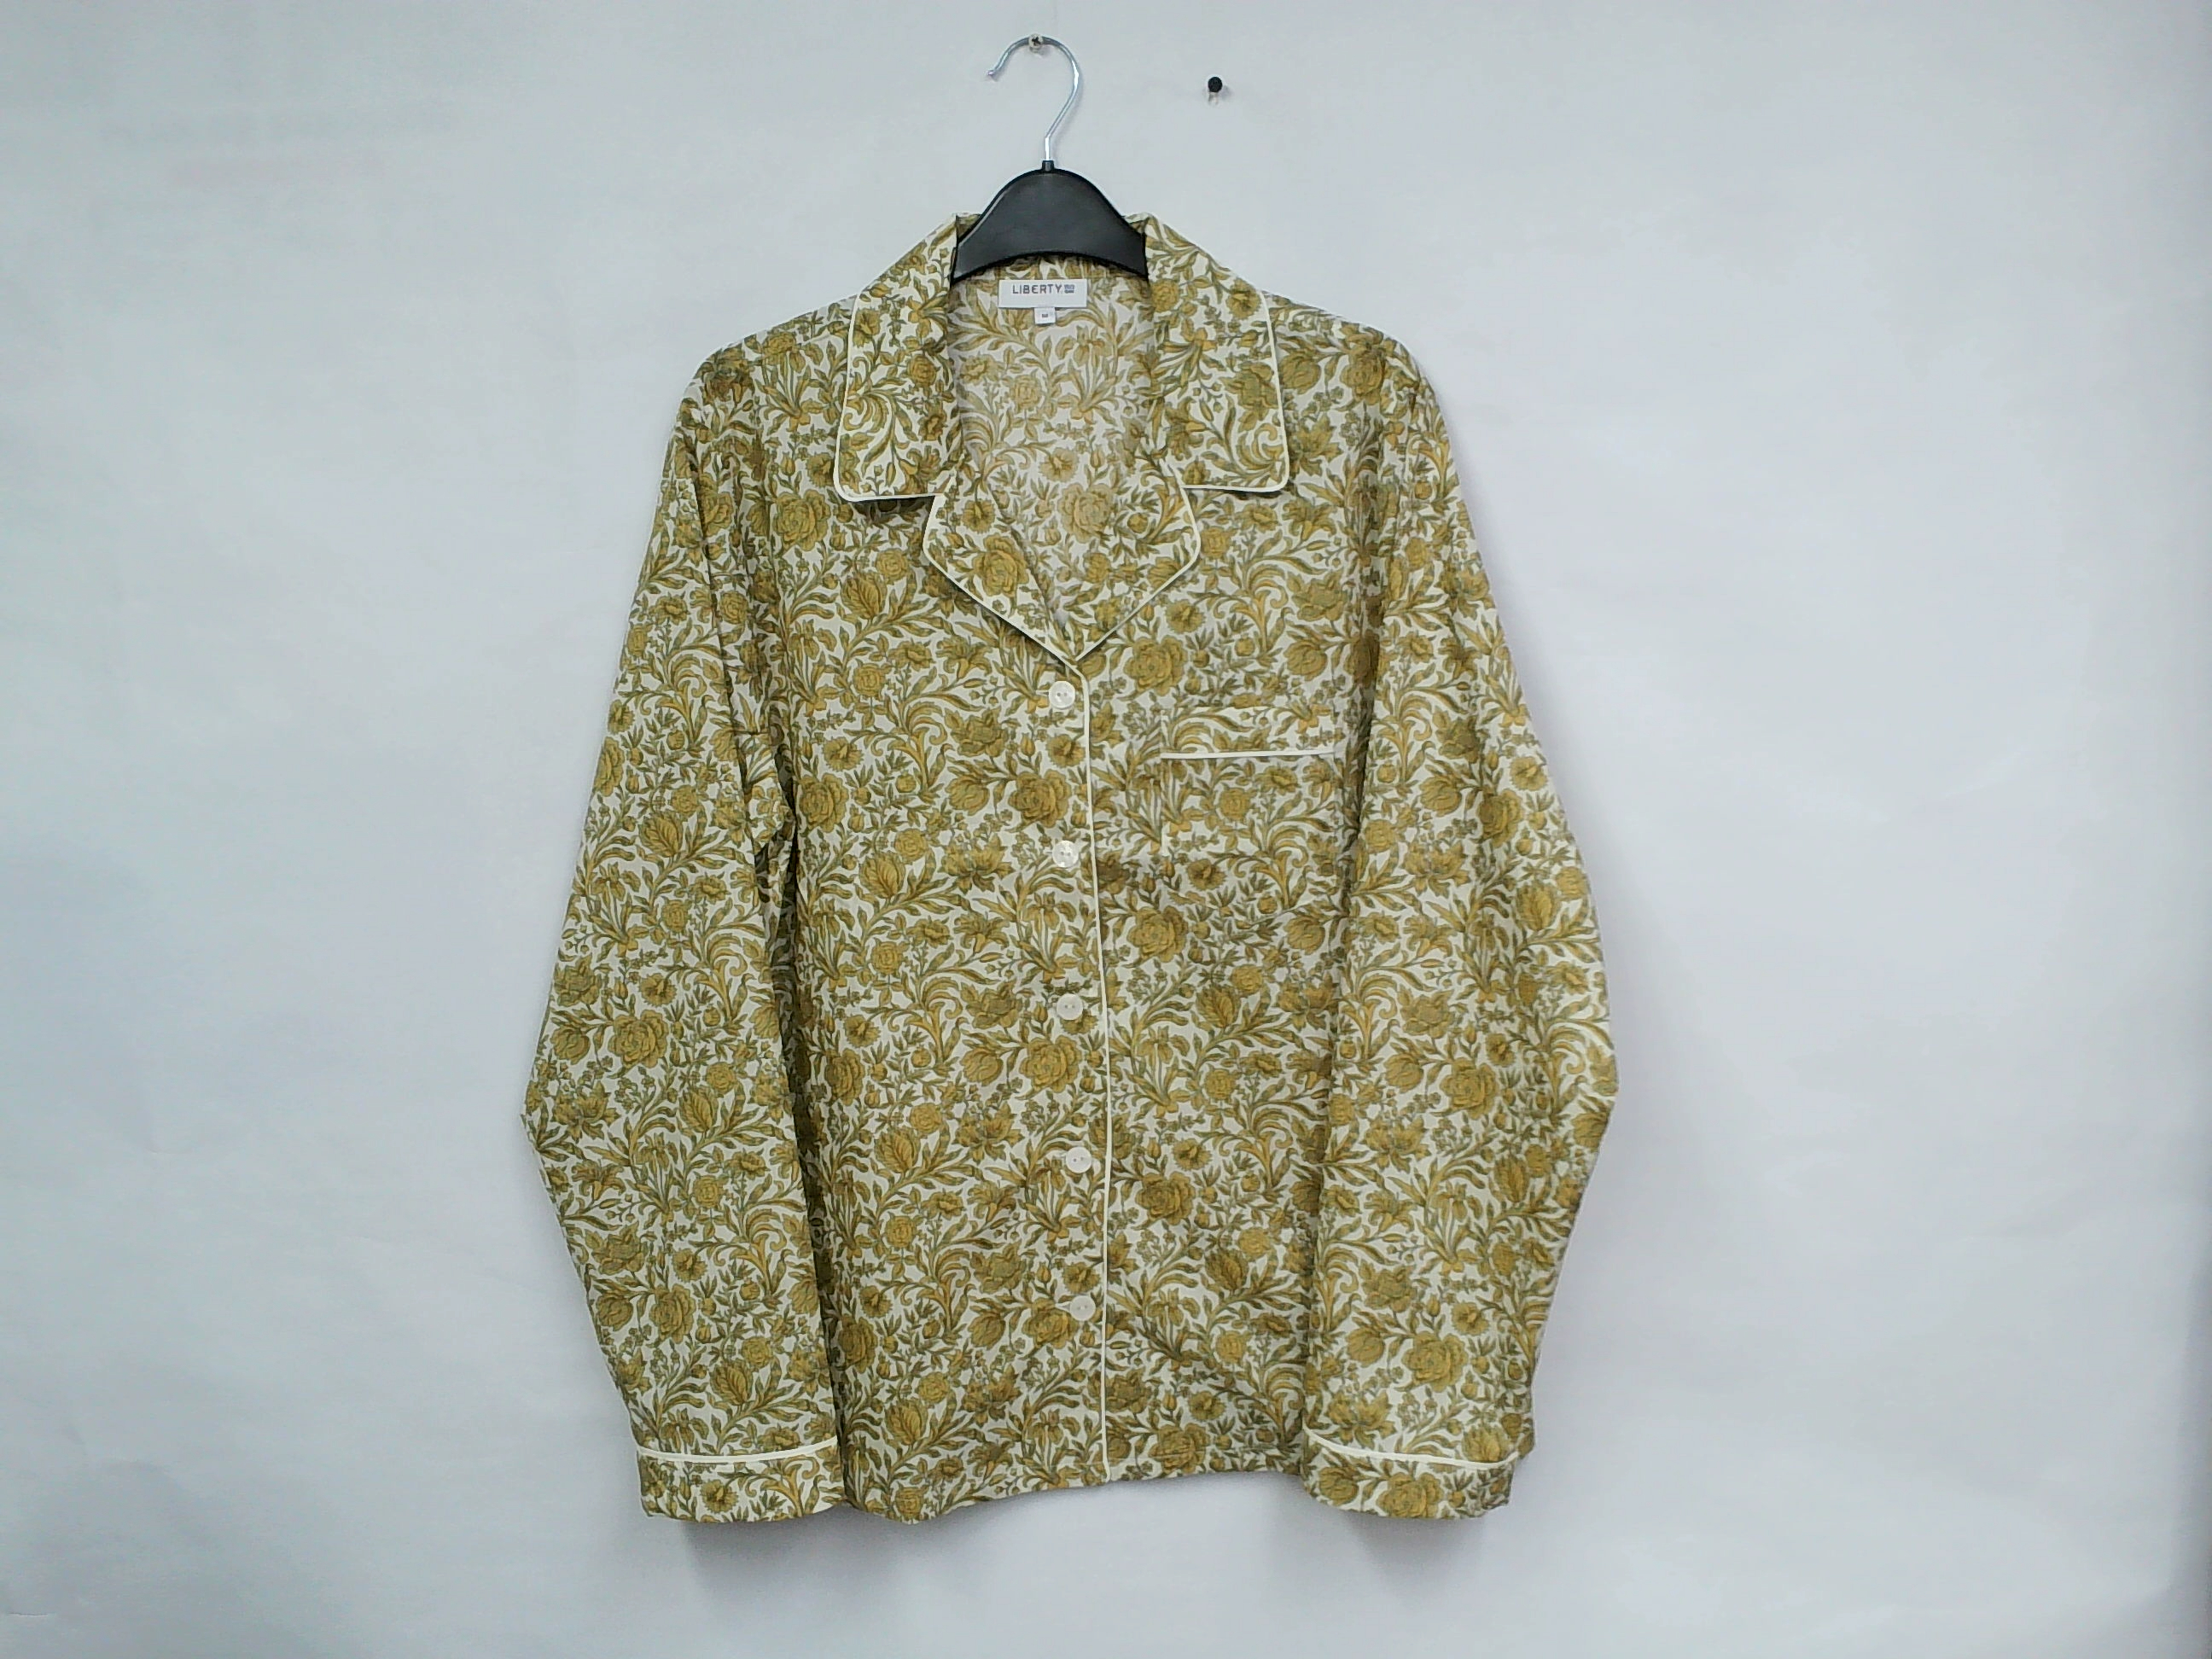seam: (631, 1408, 845, 1493)
